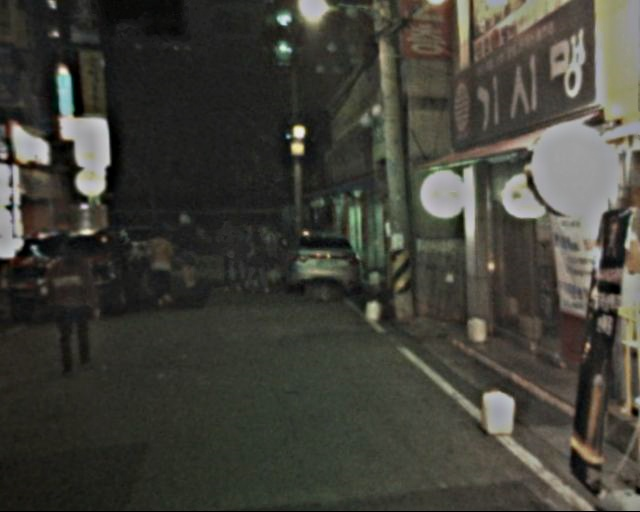person: (51, 234, 106, 367), (142, 221, 179, 313), (217, 212, 248, 294), (172, 213, 206, 286), (243, 220, 272, 299)
